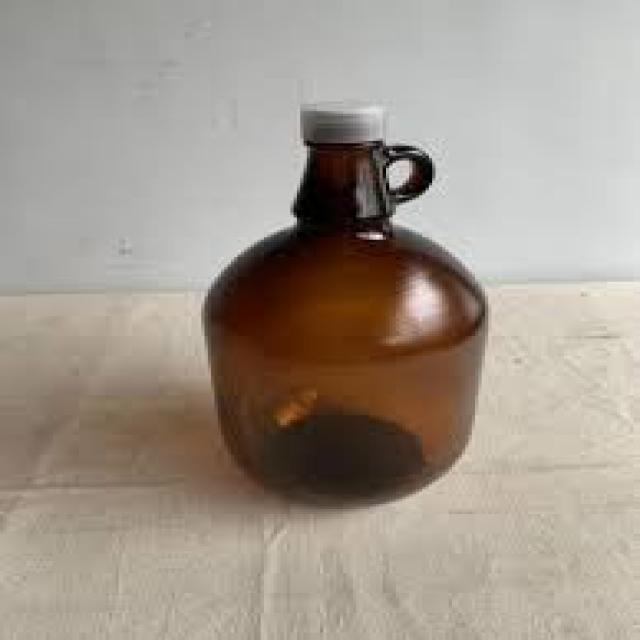glass: (205, 227, 485, 499)
